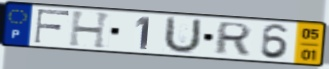1: (135, 16, 150, 50)
6: (259, 22, 291, 61)
F: (32, 8, 72, 45)
H: (67, 10, 114, 50)
R: (212, 21, 254, 56)
U: (161, 15, 204, 55)
